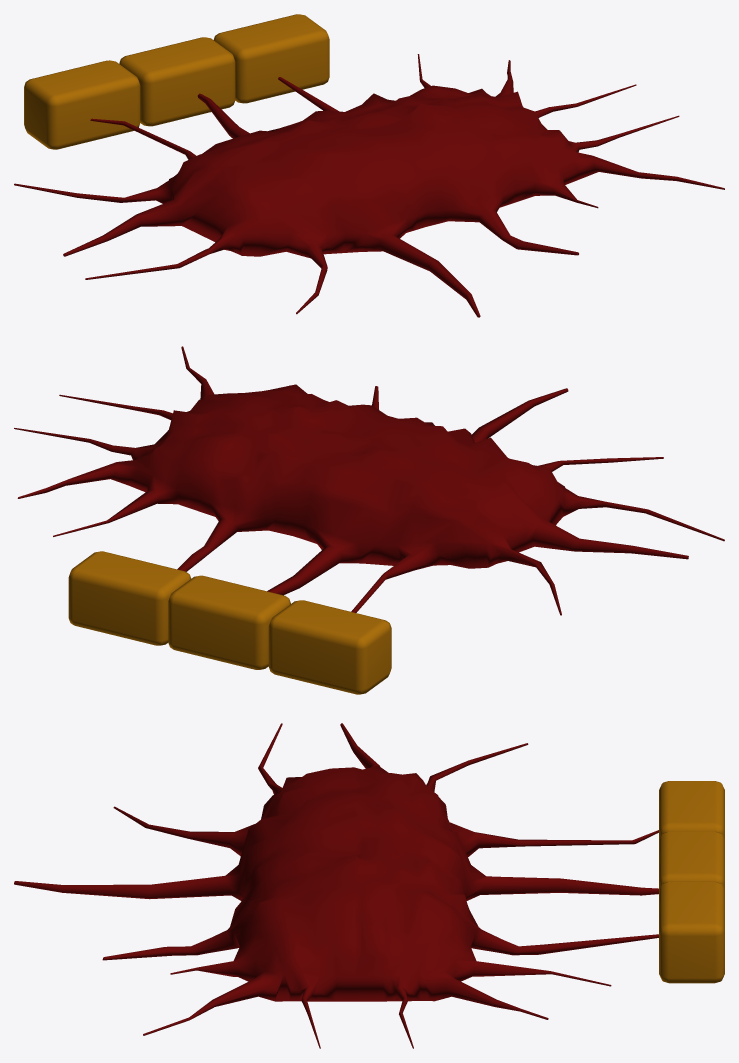
File: Osteocyte.fbx
3 views of the same model, one above another, from view 1: azimuth 30°, elevation 25°; view 2: azimuth 150°, elevation 25°; view 3: azimuth 270°, elevation 25° (orthographic). The views are drawn at different scales.
Parts seen in each view (by area): view 1: Osteocyte_body, Osteoblast, pCube3, pCube4; view 2: Osteocyte_body, Osteoblast, pCube3, pCube4; view 3: Osteocyte_body, pCube4, Osteoblast, pCube3.
Boxes of the visible parts, <box> form: Osteocyte_body: <box>14,54,724,317</box>; Osteoblast: <box>24,60,140,149</box>; pCube3: <box>119,37,235,126</box>; pCube4: <box>213,14,329,103</box>; Osteocyte_body: <box>14,346,724,615</box>; Osteoblast: <box>268,600,391,694</box>; pCube3: <box>168,575,290,669</box>; pCube4: <box>68,551,191,645</box>; Osteocyte_body: <box>14,723,658,1048</box>; pCube4: <box>659,881,724,983</box>; Osteoblast: <box>659,781,724,840</box>; pCube3: <box>659,831,724,890</box>.
Bounding box in the file's own units: 178 × 26.89 × 164.
